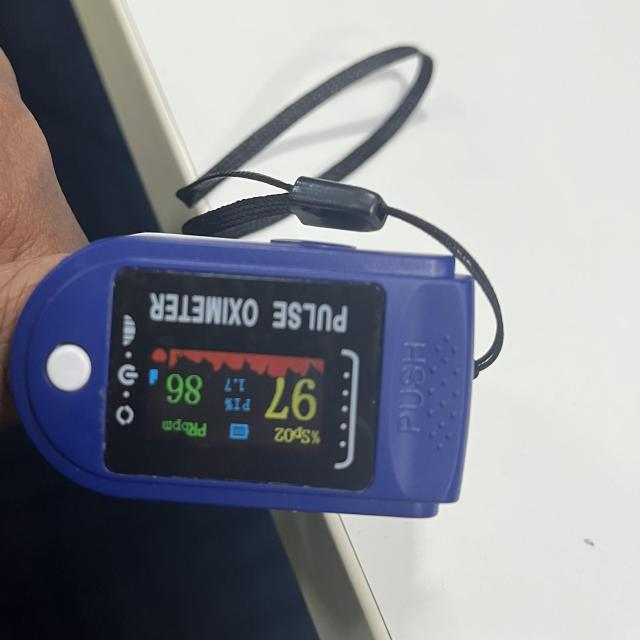spo2: (6, 234, 479, 521)
